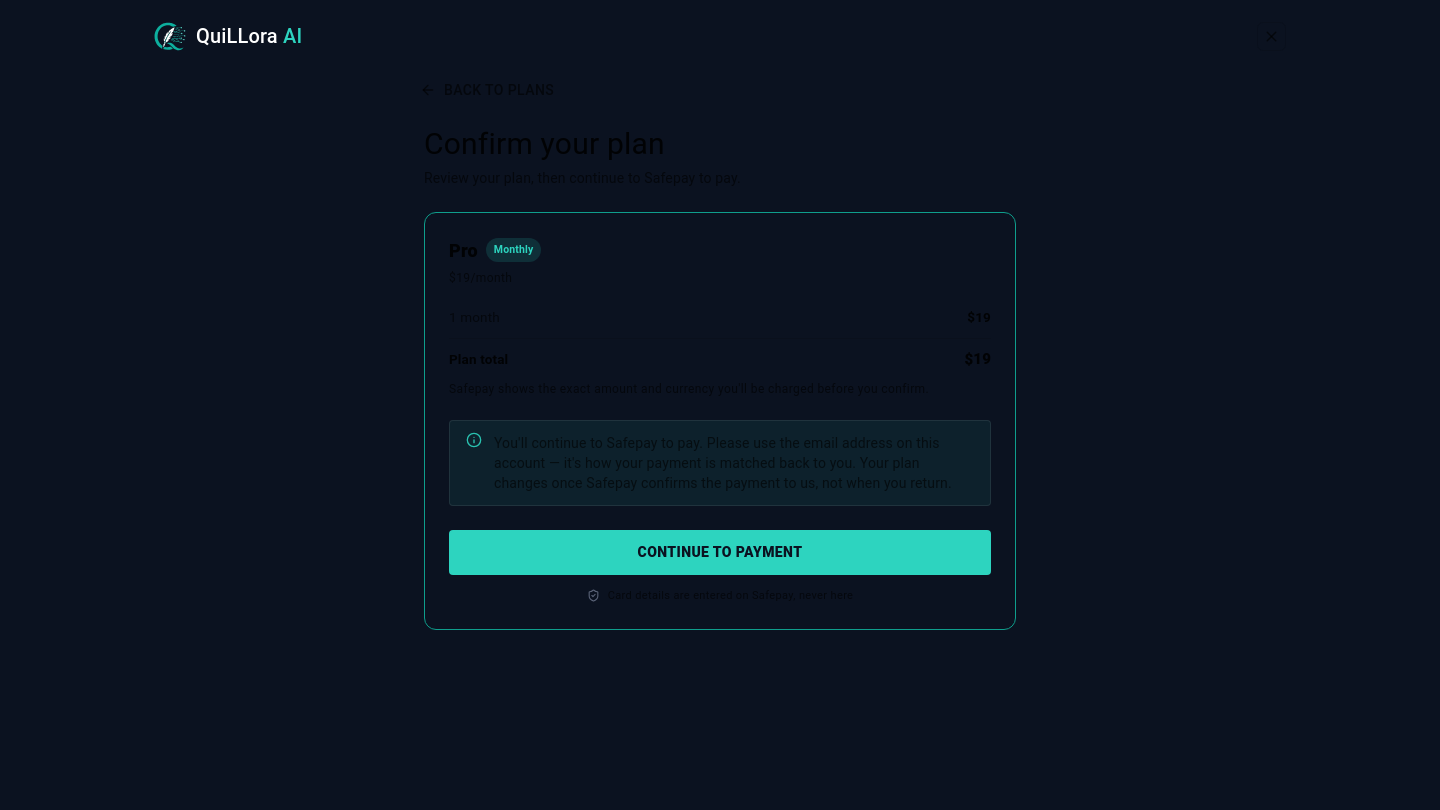
it: Starting a Safepay checkout › stays put and explains itself when checkout fails
Click the button "Continue to payment": x=720, y=552 [449, 530, 991, 575]
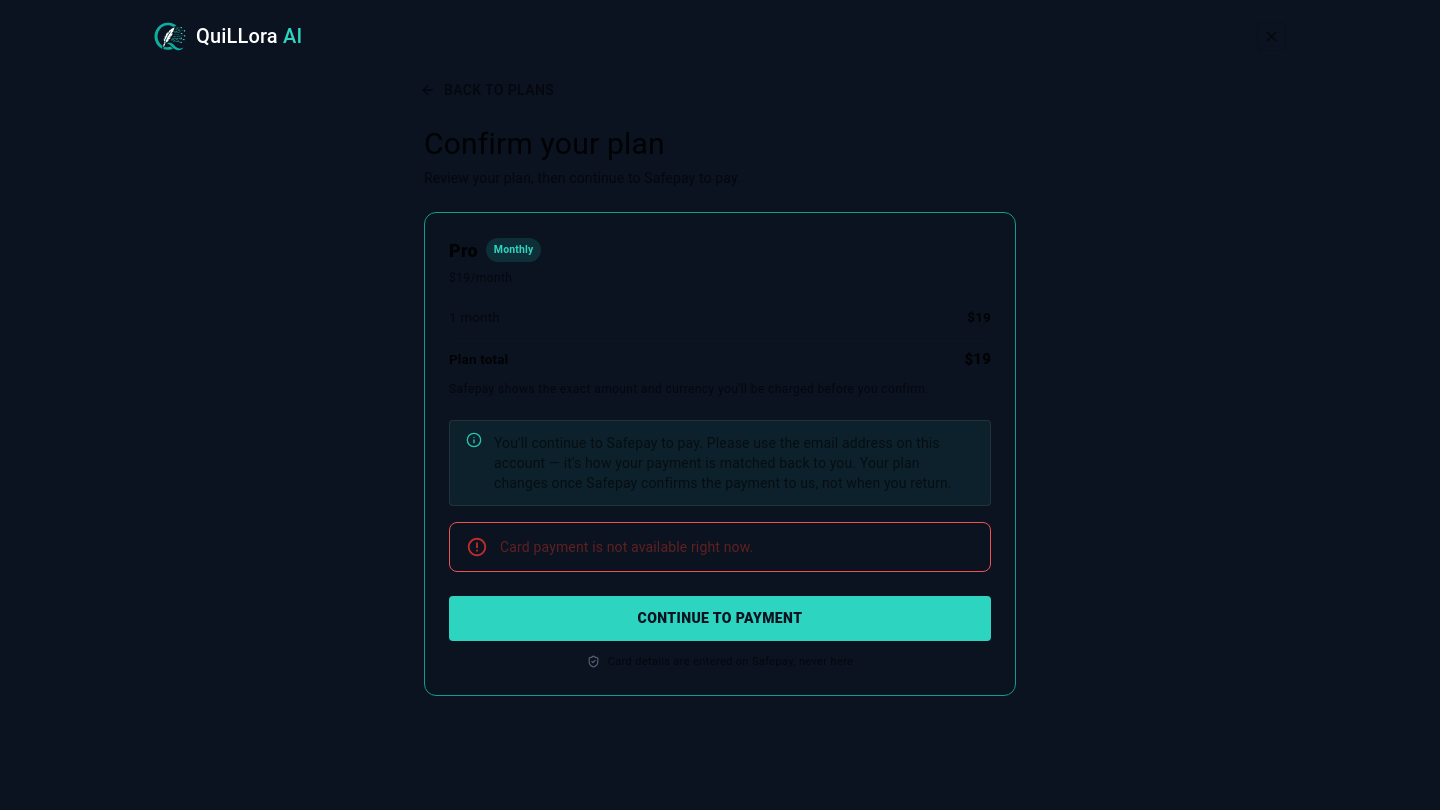
expect the button "Continue to payment" is enabled: met, box [449, 596, 991, 641]
expect the text "Card payment is not available right now." is shown: met, box [500, 539, 753, 555]
